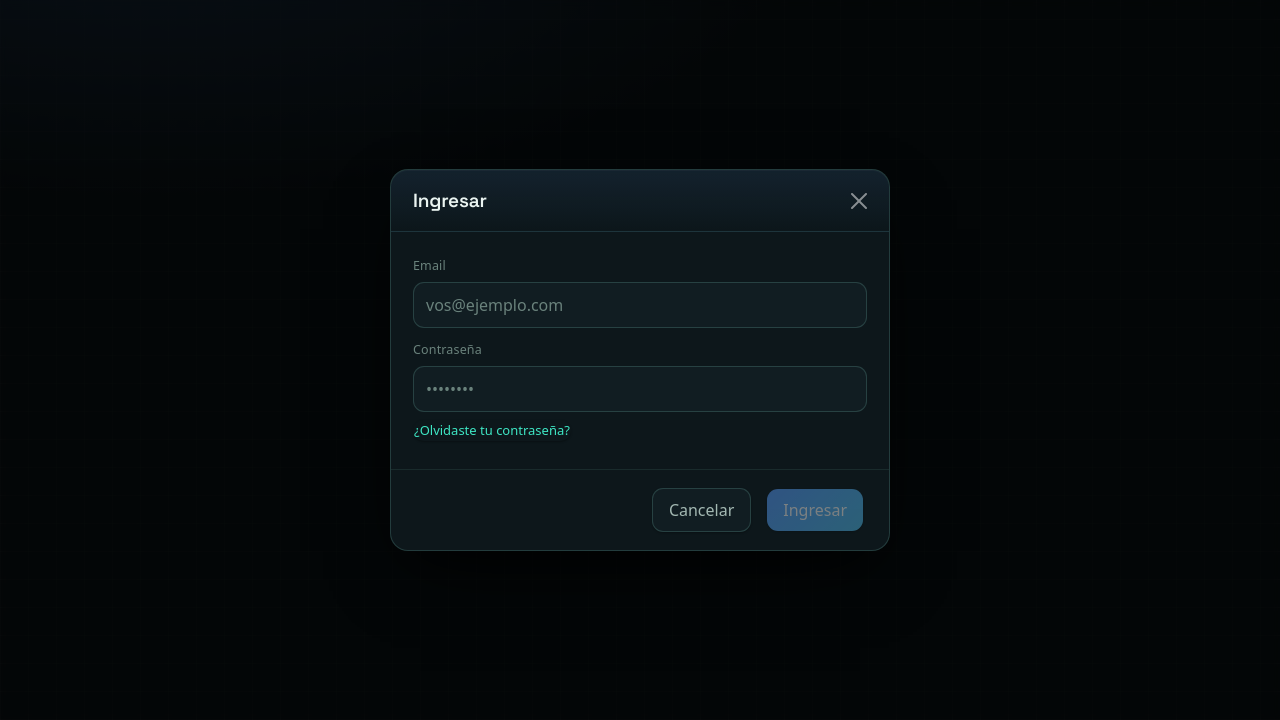
Scenario: login shows an error when the resend fails
The image size is (1280, 720).
Type "ana@example.com" into the field with placeholder "vos@ejemplo.com" at point(640, 305), box [413, 282, 867, 328]
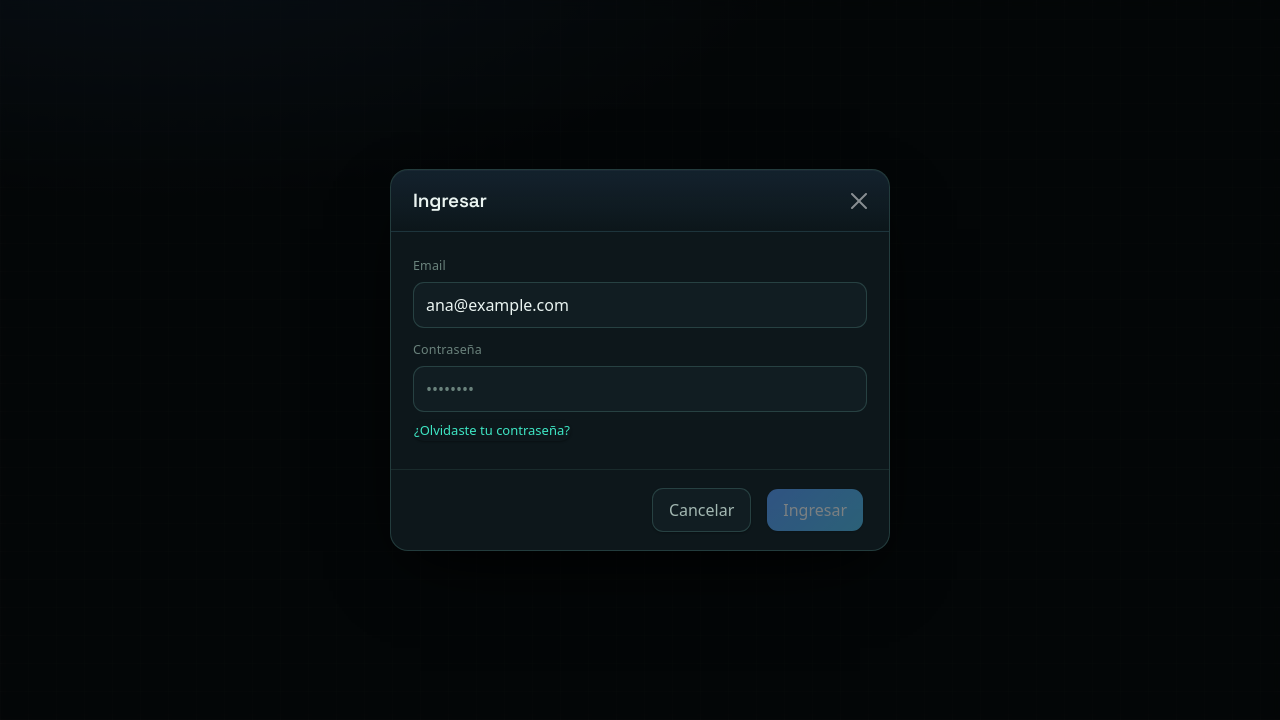
Type "Strong123!" into the password field with placeholder "••••••••" at point(640, 388), box [413, 366, 867, 412]
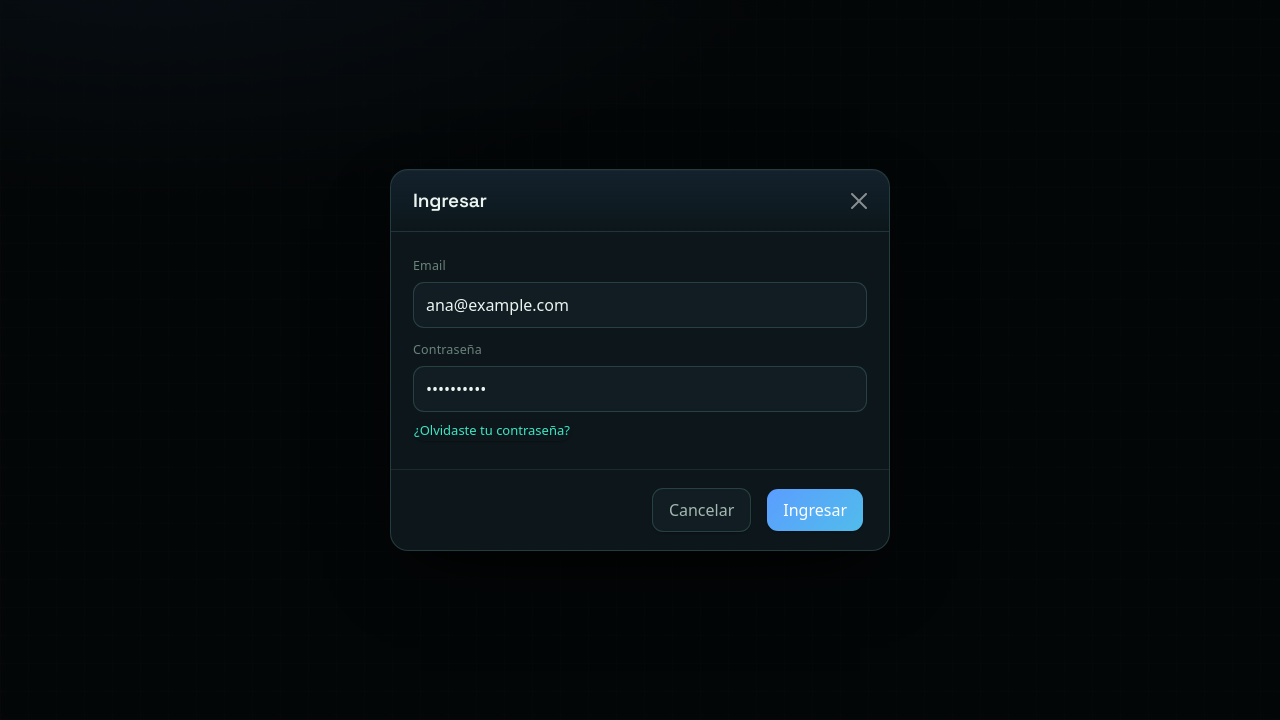
Click the button "Ingresar" at point(815, 510), box [767, 489, 863, 531]
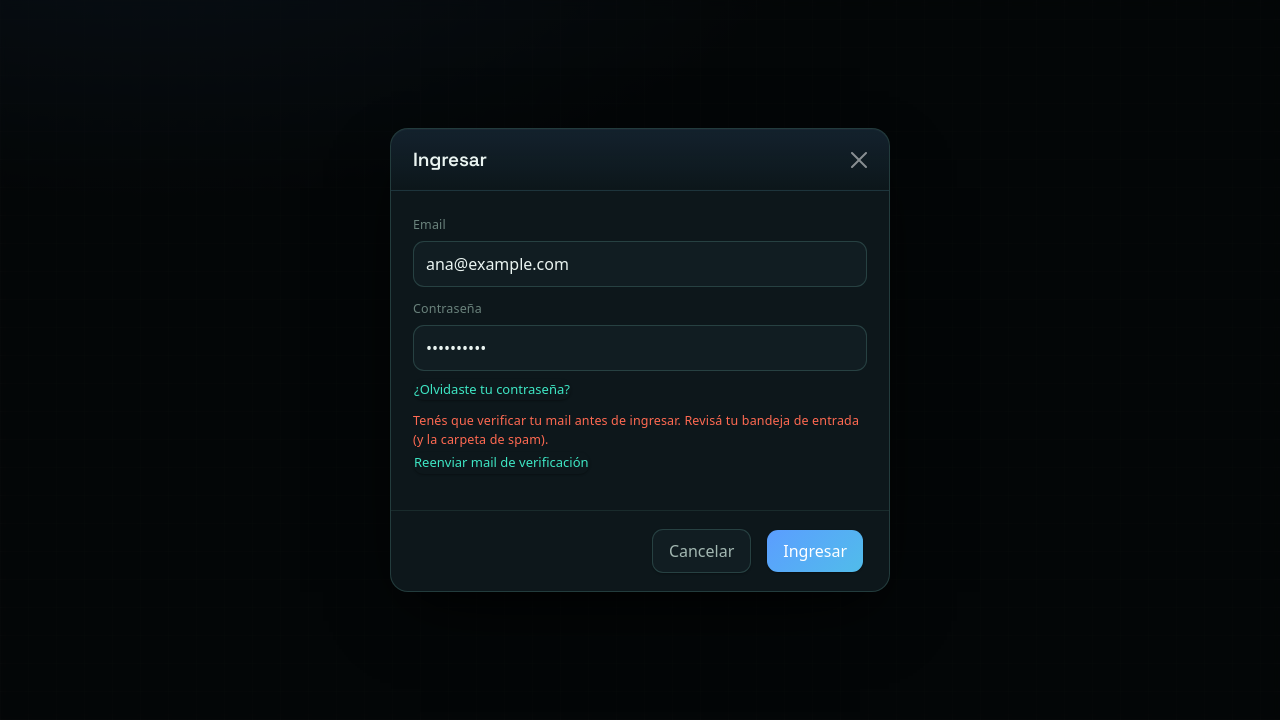
Check: the text "Tenés que verificar tu mail" is shown, box [413, 412, 859, 448]
Click the button "Reenviar mail de verificación" at point(501, 463), box [413, 452, 590, 474]
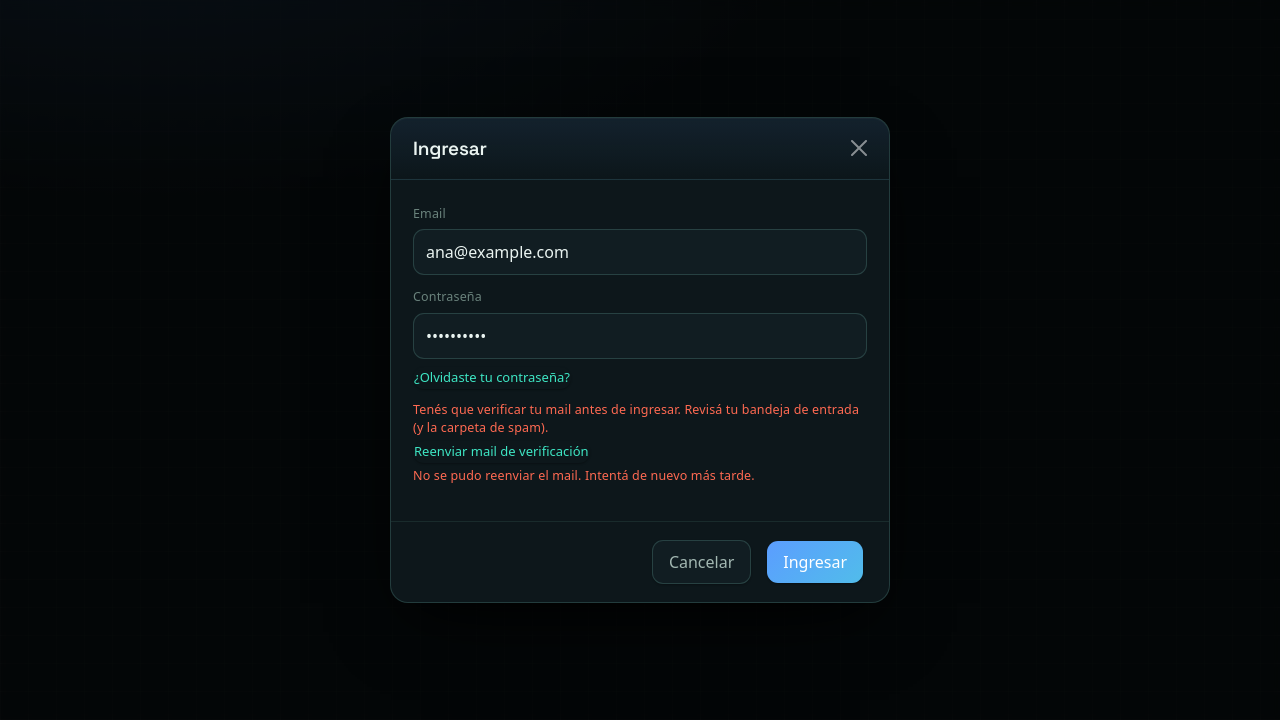
Check: the text "No se pudo reenviar el mail. Intentá de nuevo más tarde." is shown, box [413, 467, 755, 484]
